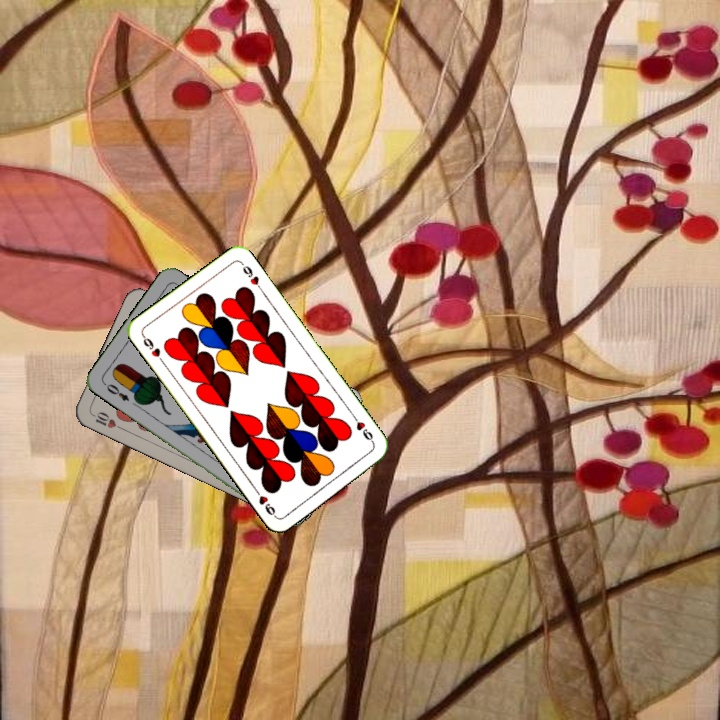EO: (100, 379, 132, 404)
H10: (87, 407, 125, 432)
H9: (138, 331, 167, 366), (348, 411, 377, 446)
